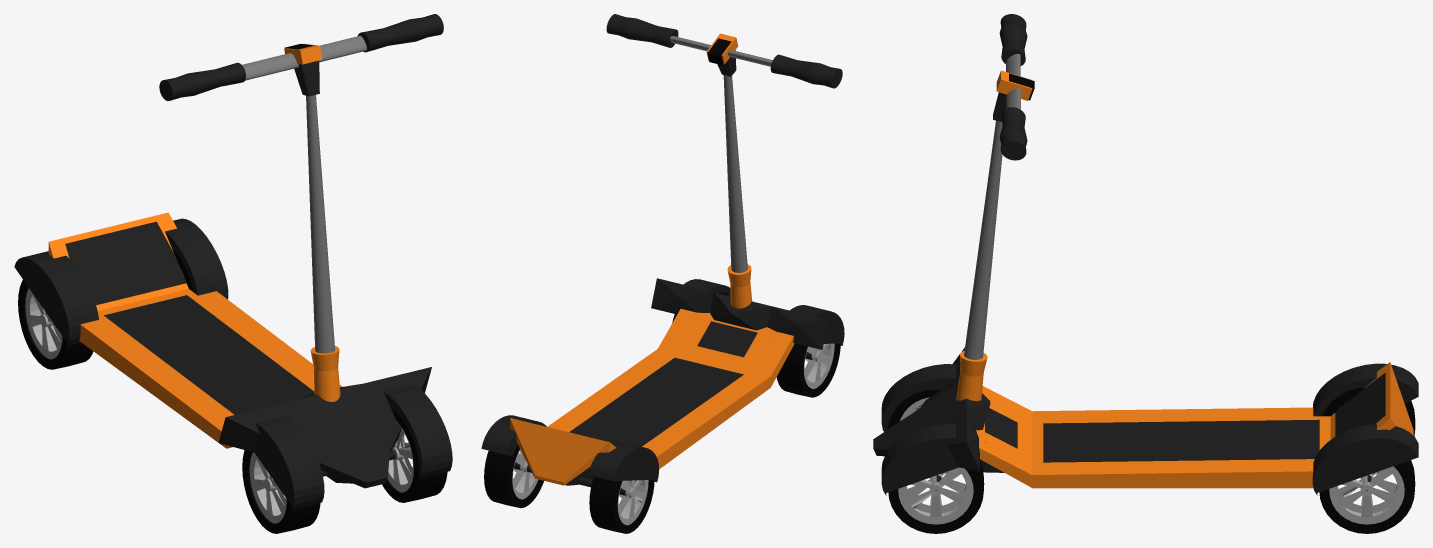
Rendered from stepupgraded.fbx.
3 renders of one model, left to right at view 1: azimuth 30°, elevation 25°; view 2: azimuth 150°, elevation 25°; view 3: azimuth 270°, elevation 25°, orthographic. The views are drawn at different scales.
Visible parts, largest first — view 1: Cylinder.010, wielrechtsvoor, rechtsachter, wiellinksvoor; view 2: Cylinder.010, rechtsachter, wielrechtsvoor, linksachter; view 3: Cylinder.010, linksachter, wiellinksvoor, wielrechtsvoor.
Part boxes in pixels (x1=…): Cylinder.010: x1=14, y1=14, x2=452, y2=509; wielrechtsvoor: x1=242, y1=450, x2=320, y2=533; rechtsachter: x1=18, y1=280, x2=93, y2=369; wiellinksvoor: x1=382, y1=409, x2=447, y2=502; Cylinder.010: x1=481, y1=14, x2=844, y2=495; rechtsachter: x1=589, y1=476, x2=654, y2=533; wielrechtsvoor: x1=776, y1=343, x2=840, y2=397; linksachter: x1=484, y1=445, x2=543, y2=508; Cylinder.010: x1=873, y1=14, x2=1418, y2=495; linksachter: x1=1319, y1=460, x2=1415, y2=533; wiellinksvoor: x1=888, y1=460, x2=984, y2=533; wielrechtsvoor: x1=888, y1=389, x2=947, y2=473.
Size of the model in its own units: 339 by 525 by 614.
